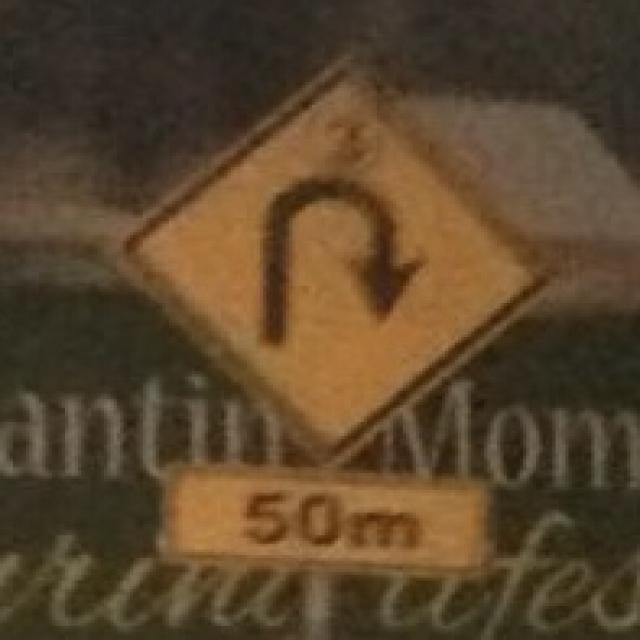u turn: (123, 45, 562, 479)
